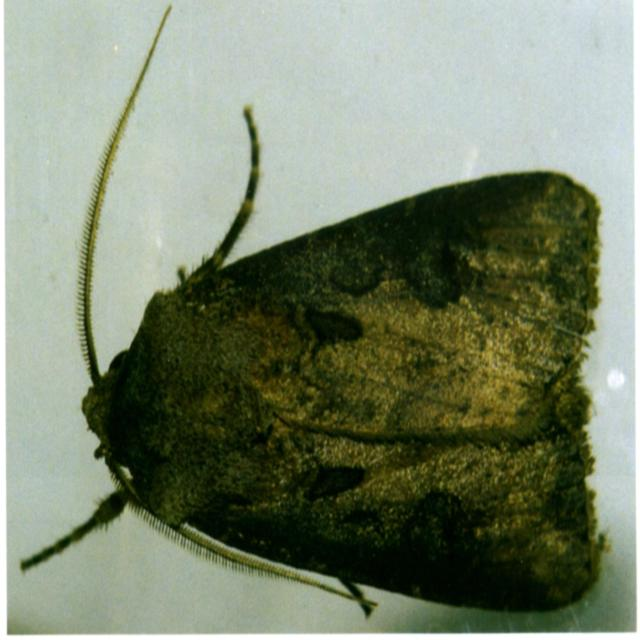black cutworm: (80, 157, 618, 611)
